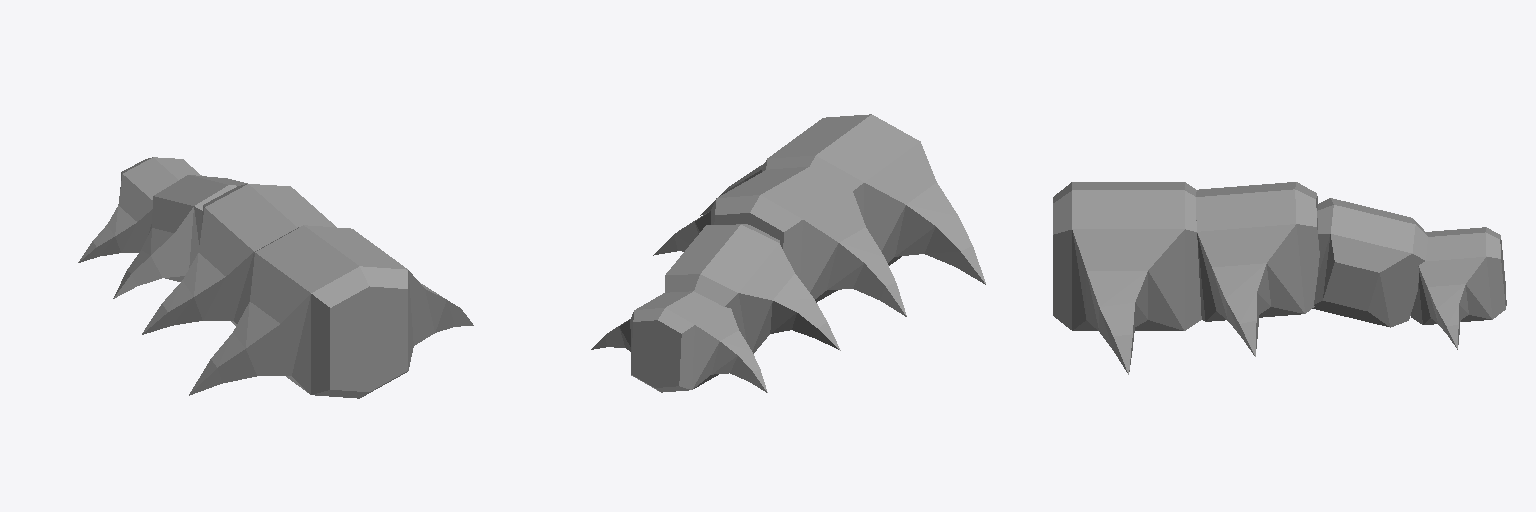
The model's file is xaphanspine.obj.
The picture shows the model from 3 angles: view 1: azimuth 30°, elevation 25°; view 2: azimuth 150°, elevation 25°; view 3: azimuth 270°, elevation 25°; orthographic projection.
Parts seen in each view (by area): view 1: BaseFront03, BaseFront02, Base, BaseBack01; view 2: BaseFront03, BaseFront02, Base, BaseBack01; view 3: BaseFront03, BaseFront02, Base, BaseBack01.
Part boxes in pixels (bbox=[...]): BaseFront03: bbox=[189, 225, 473, 398]; BaseFront02: bbox=[142, 184, 335, 334]; Base: bbox=[113, 175, 247, 298]; BaseBack01: bbox=[78, 157, 201, 262]; BaseFront03: bbox=[700, 114, 985, 284]; BaseFront02: bbox=[653, 167, 906, 316]; Base: bbox=[665, 224, 840, 353]; BaseBack01: bbox=[591, 291, 767, 392]; BaseFront03: bbox=[1053, 182, 1201, 374]; BaseFront02: bbox=[1196, 182, 1319, 356]; Base: bbox=[1312, 198, 1427, 327]; BaseBack01: bbox=[1411, 227, 1506, 349].
Size of the model in its own units: 0.4912 by 0.2185 by 0.6733.